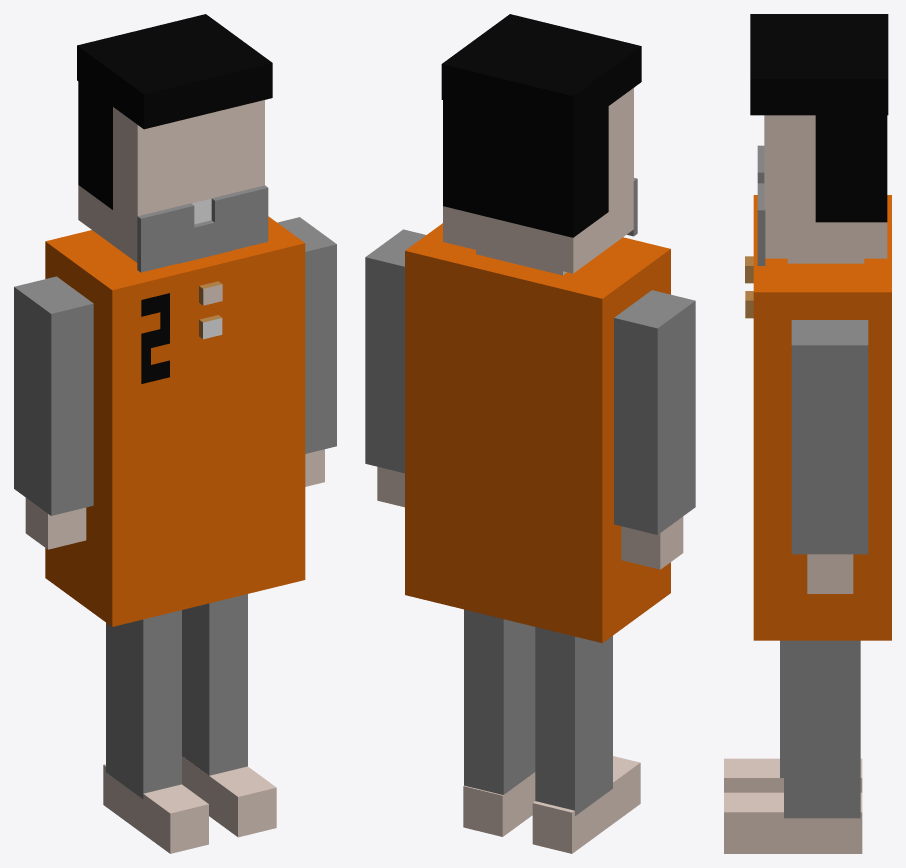
The model's file is realojjail.fbx.
3 renders of one model, left to right at view 1: azimuth 30°, elevation 25°; view 2: azimuth 150°, elevation 25°; view 3: azimuth 270°, elevation 25°, orthographic. The views are drawn at different scales.
Parts seen in each view (by area): view 1: body, head, leg1, hand; view 2: body, head, leg1, hand; view 3: body, head, leg1, hand.
Boxes of the visible parts, <box> form: body: <box>45,216,305,626</box>; head: <box>77,14,272,272</box>; leg1: <box>103,594,276,853</box>; hand: <box>14,217,336,549</box>; body: <box>405,223,670,643</box>; head: <box>441,14,641,275</box>; leg1: <box>463,609,640,853</box>; hand: <box>365,229,695,569</box>; body: <box>745,195,891,640</box>; head: <box>750,14,888,265</box>; leg1: <box>724,640,862,853</box>; hand: <box>791,320,868,593</box>.
Size of the model in its own units: 2.22 by 5.6 by 1.09.
